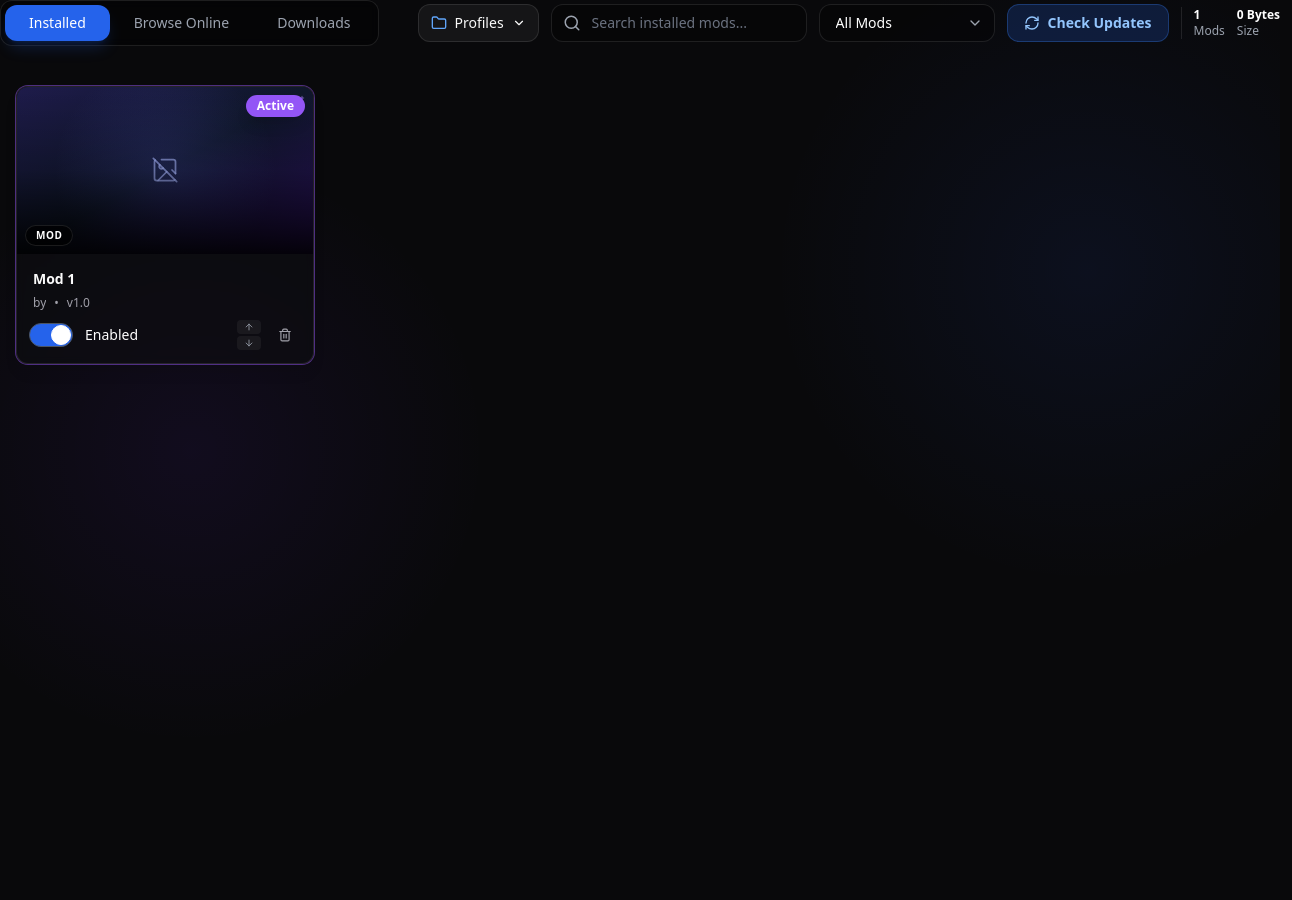
Frontend Final Gaps › Mods Page Error Handling › should handle uninstallMod failure
What coordinates should you click on to do the following:
click the button named "Uninstall"
I would click on:
 (285, 335)
Its box is [269,319,301,351].
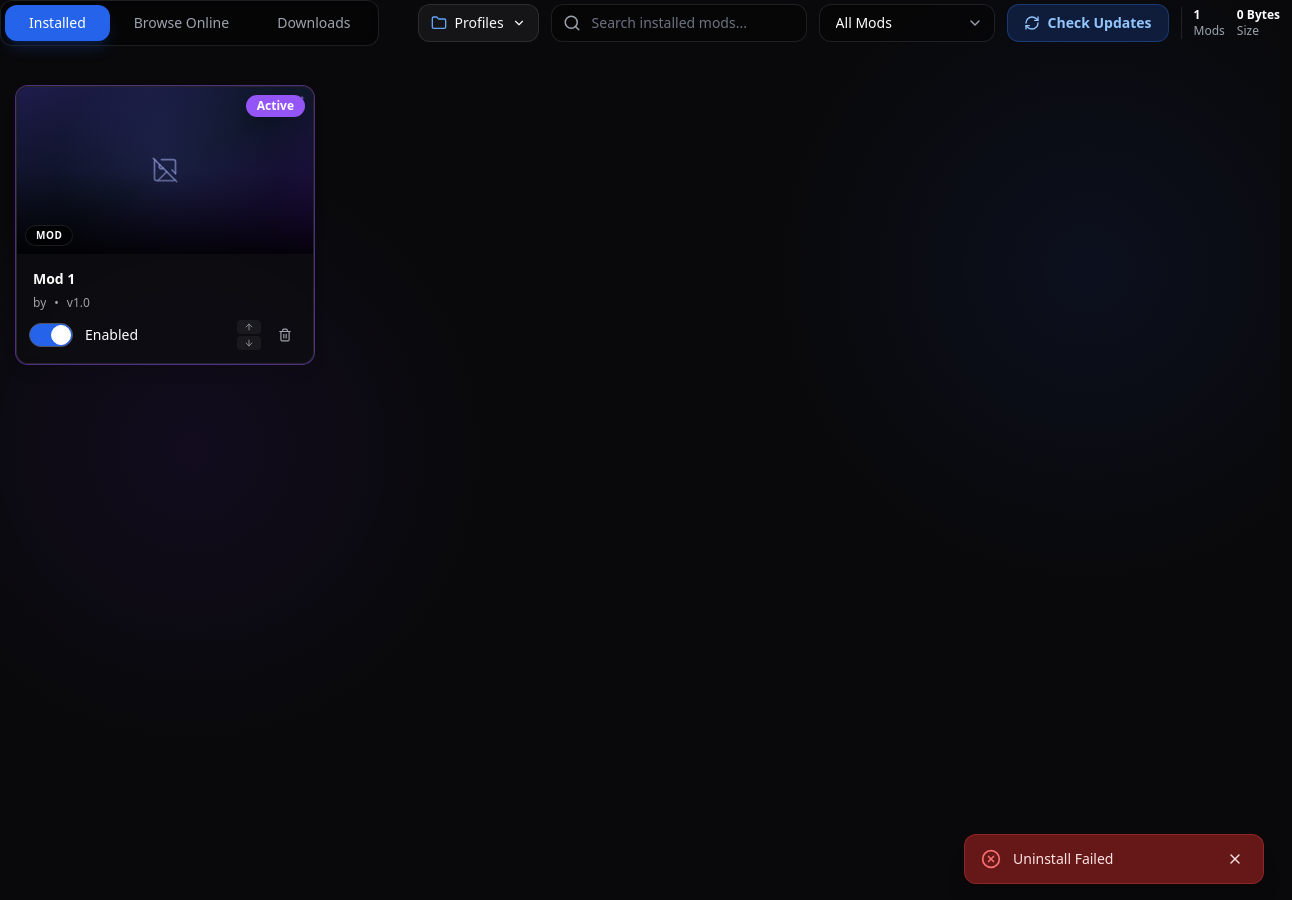
Check: the text "Uninstall Failed" is shown, box [1013,849,1114,868]
